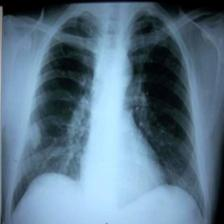tuberculosis: (7, 7, 210, 224)
